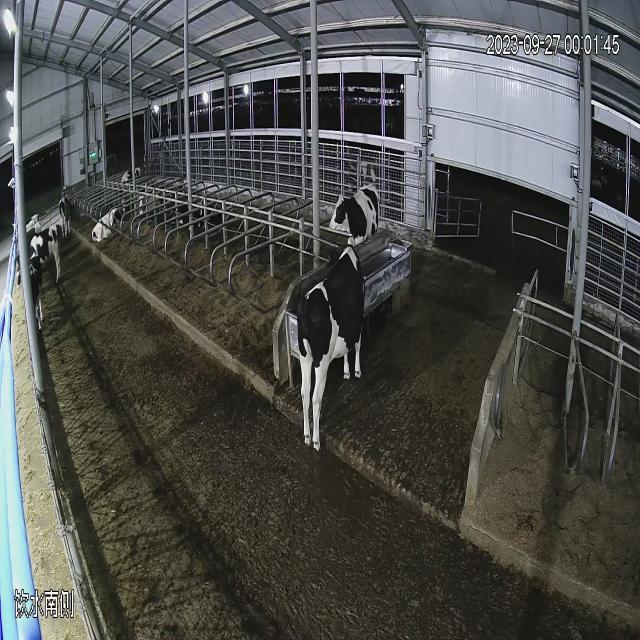drinking: (289, 242, 369, 467)
lying down: (89, 192, 122, 257), (192, 188, 227, 246), (117, 152, 146, 192)
standing: (318, 170, 389, 249), (55, 182, 79, 240)
